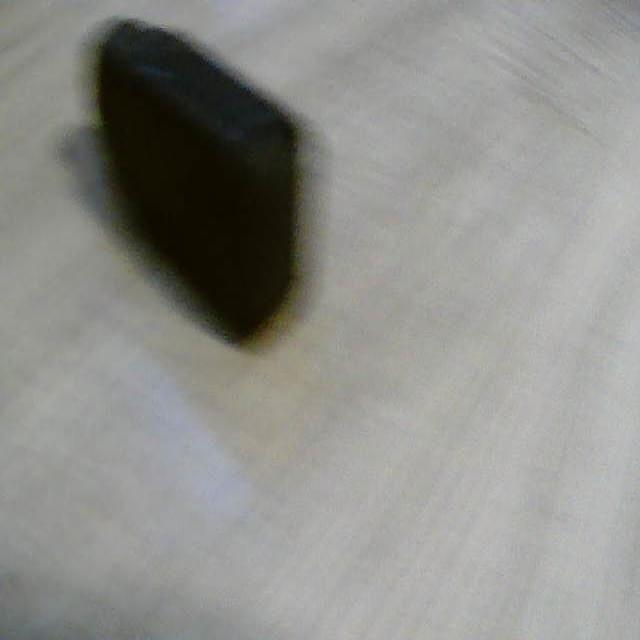borracha: (63, 5, 349, 346)
